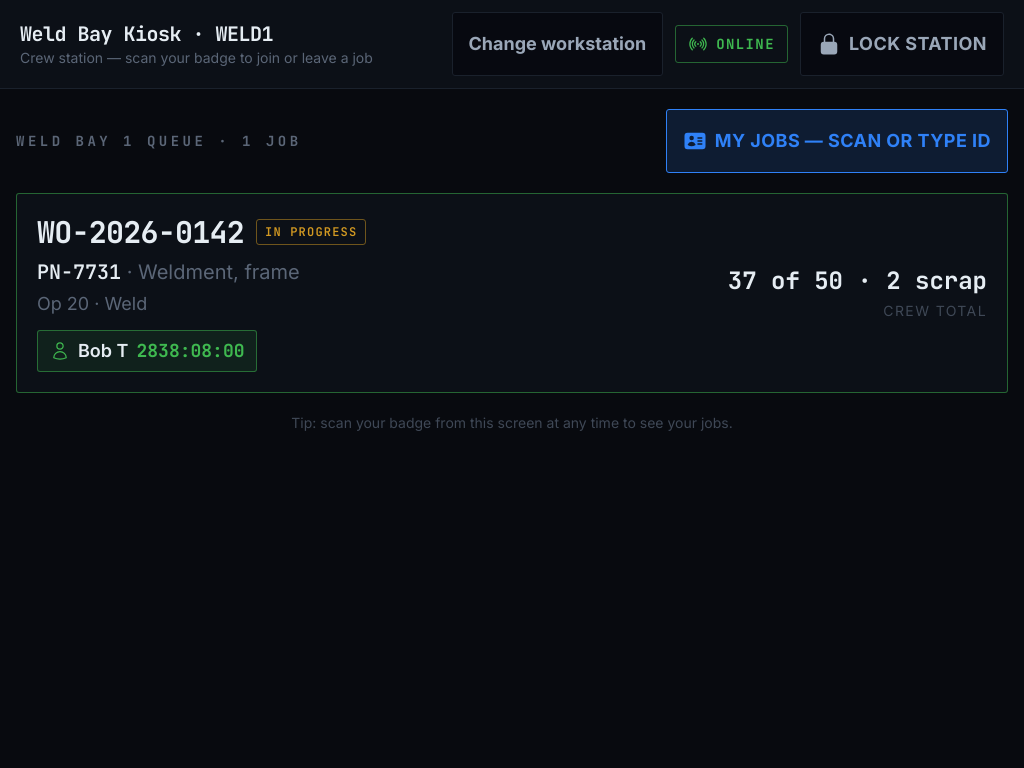
it: CrewStationKiosk quantity quick adds › the over-count CORRECTION screen has no quick adds — it removes pieces
Step 1. Click the button "WO-2026-0142" → (512, 381), box [16, 193, 1008, 393]
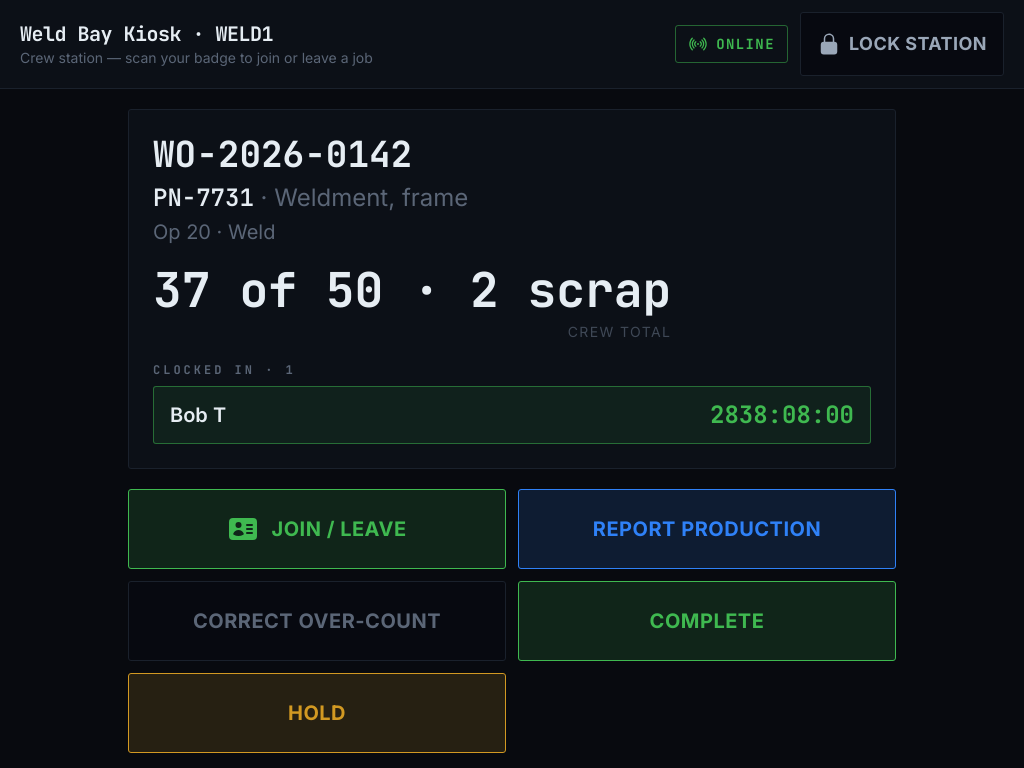
Step 2. Click the button with test id "crew-correct-verb" → (317, 621), box [128, 581, 506, 661]
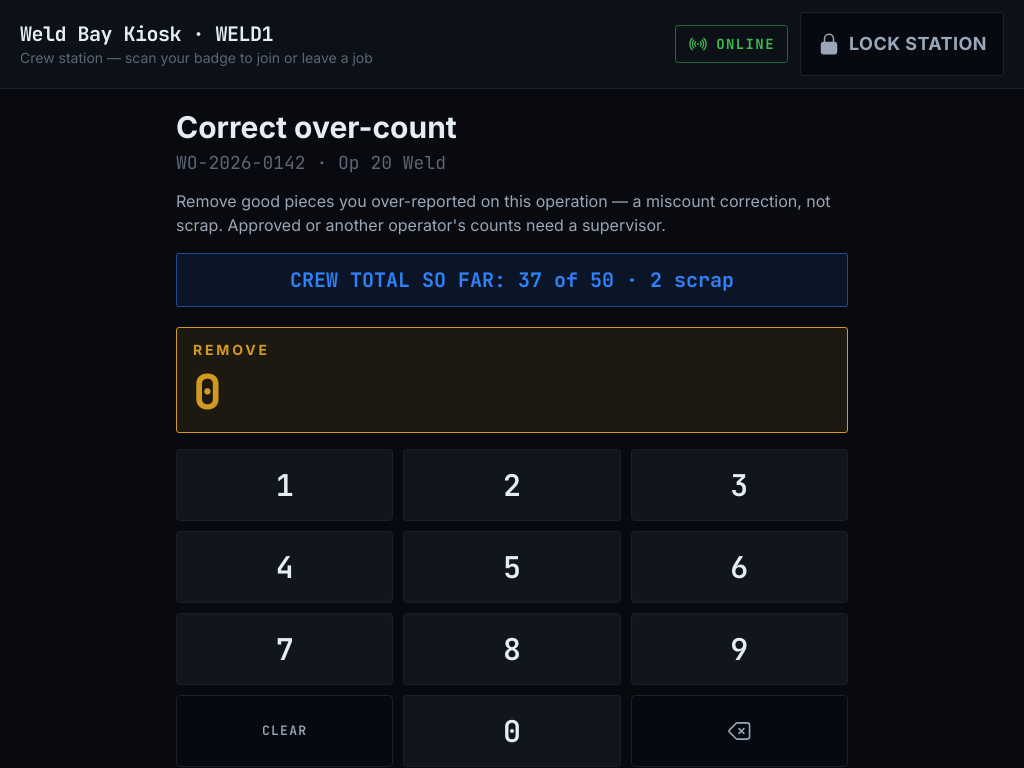
Check: the element with test id "kiosk-correct-remove" is shown, box [176, 327, 848, 433]
